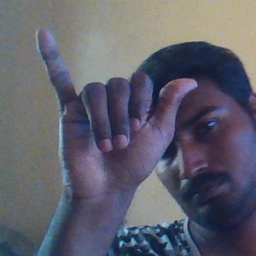J: (32, 25, 199, 188)
